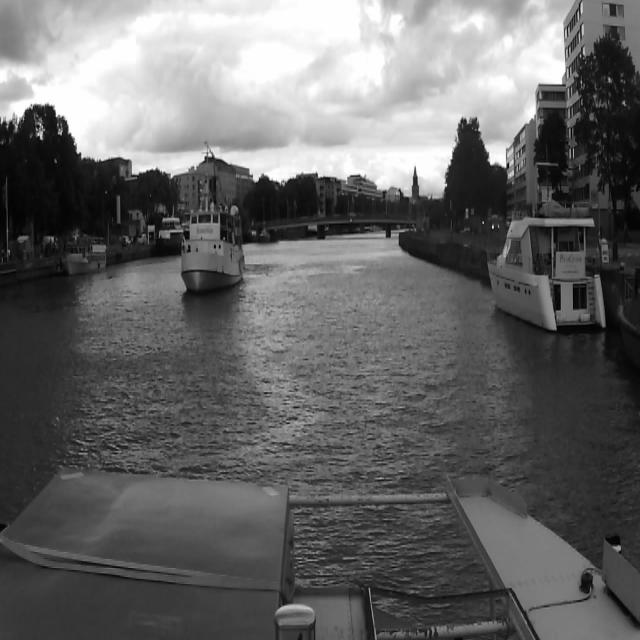ship: (487, 210, 607, 330), (181, 176, 245, 289), (67, 244, 106, 278), (158, 218, 182, 254)
